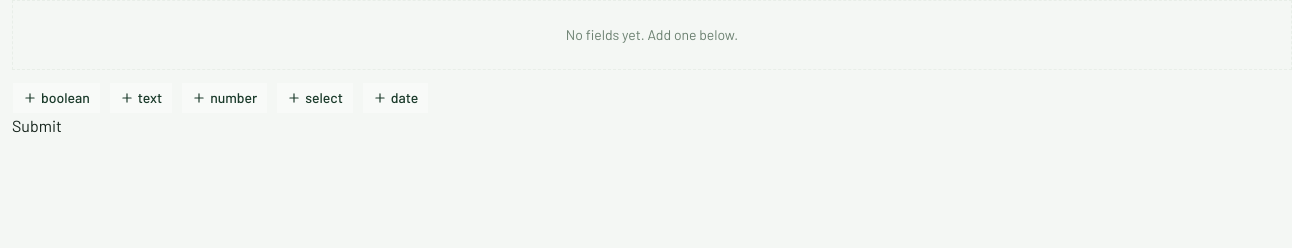
Test: FieldBuilder › shows the options editor only for select fields
The width and height of the screenshot is (1292, 248).
Click the button "select" at (315, 98), box x1=276 y1=82 x2=354 y2=114
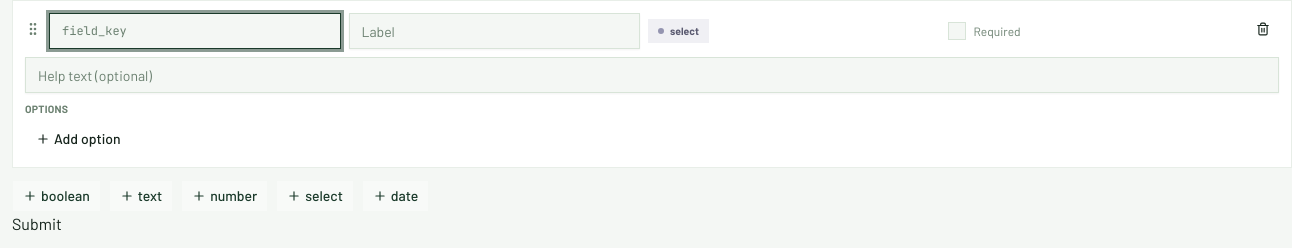
Check: the text "Options" is shown, box x1=25 y1=102 x2=68 y2=115
Check: the button "Add option" is shown, box x1=25 y1=123 x2=132 y2=155
